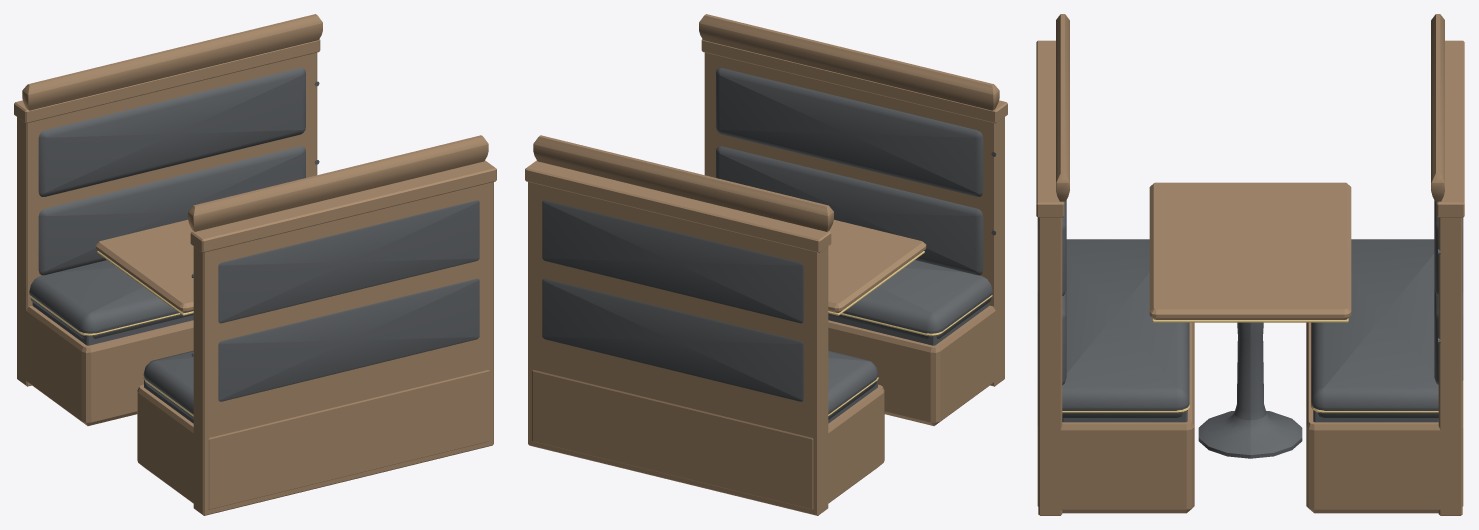
File: bar-pub-and-brewery-taproom-pub-booth-4-leather-217c1cf5__18389.glb
The picture shows the model from 3 angles, left to right: view 1: azimuth 30°, elevation 25°; view 2: azimuth 150°, elevation 25°; view 3: azimuth 270°, elevation 25°; orthographic projection. The views are drawn at different scales.
Parts seen in each view (by area): view 1: pub-booth-4-leather; view 2: pub-booth-4-leather; view 3: pub-booth-4-leather.
Boxes of the visible parts, x1=… form: pub-booth-4-leather: x1=14, y1=14, x2=496, y2=515; pub-booth-4-leather: x1=525, y1=14, x2=1007, y2=515; pub-booth-4-leather: x1=1036, y1=14, x2=1464, y2=515.
Bounding box in the file's own units: 1.38 × 1.35 × 1.53.
